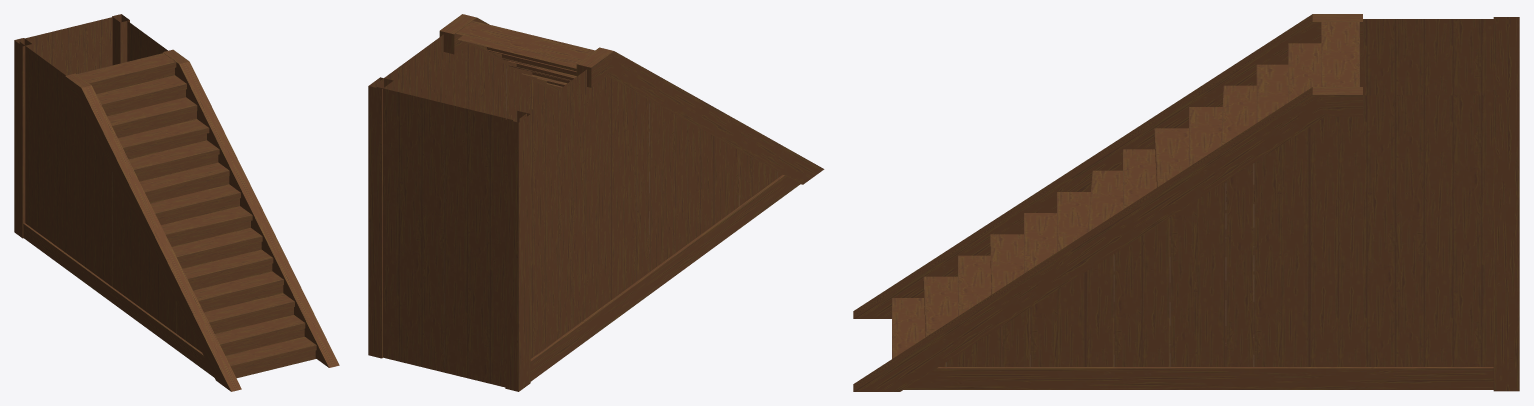
The model's file is Stair_Interior_SolidExtended.glb.
The picture shows the model from 3 angles, left to right: view 1: azimuth 30°, elevation 25°; view 2: azimuth 150°, elevation 25°; view 3: azimuth 270°, elevation 25°; orthographic projection. The views are drawn at different scales.
Parts seen in each view (by area): view 1: Stair_Interior_SolidExtended; view 2: Stair_Interior_SolidExtended; view 3: Stair_Interior_SolidExtended.
Part boxes in pixels (x1,y1,x2,y2): Stair_Interior_SolidExtended: [14, 14, 339, 391]; Stair_Interior_SolidExtended: [368, 14, 824, 391]; Stair_Interior_SolidExtended: [853, 14, 1519, 391].
Size of the model in its own units: 1.77 by 3.05 by 6.16.
Materials: 1 (1 with a texture image).
